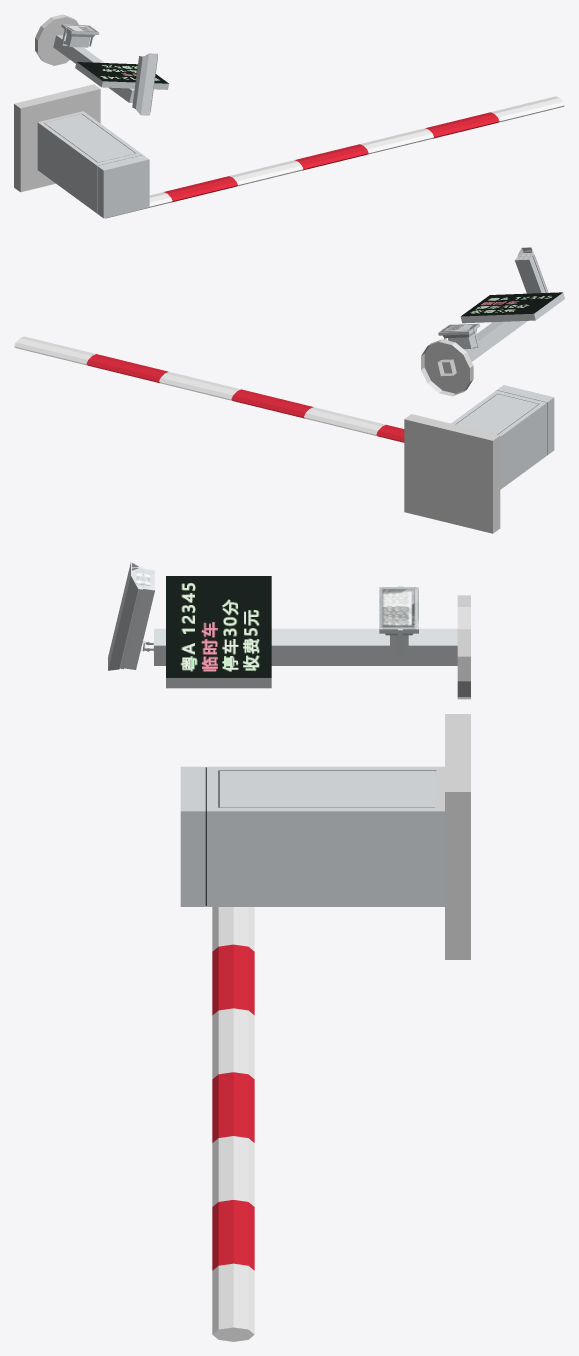
The picture shows the model from 3 angles, top to bottom: view 1: azimuth 30°, elevation 25°; view 2: azimuth 150°, elevation 25°; view 3: azimuth 270°, elevation 25°; orthographic projection. The views are drawn at different scales.
Parts seen in each view (by area): view 1: Box001, Box001.001; view 2: Box001, Box001.001; view 3: Box001, Box001.001.
Part boxes in pixels (left/top/right/bottom): Box001: left=14, top=84, right=564, bottom=218; Box001.001: left=35, top=14, right=168, bottom=115; Box001: left=14, top=336, right=554, bottom=533; Box001.001: left=421, top=247, right=564, bottom=396; Box001: left=180, top=714, right=470, bottom=1341; Box001.001: left=108, top=562, right=470, bottom=699.
Size of the model in its own units: 4.25 by 1.54 by 1.37.
8 materials, 3 textured.
